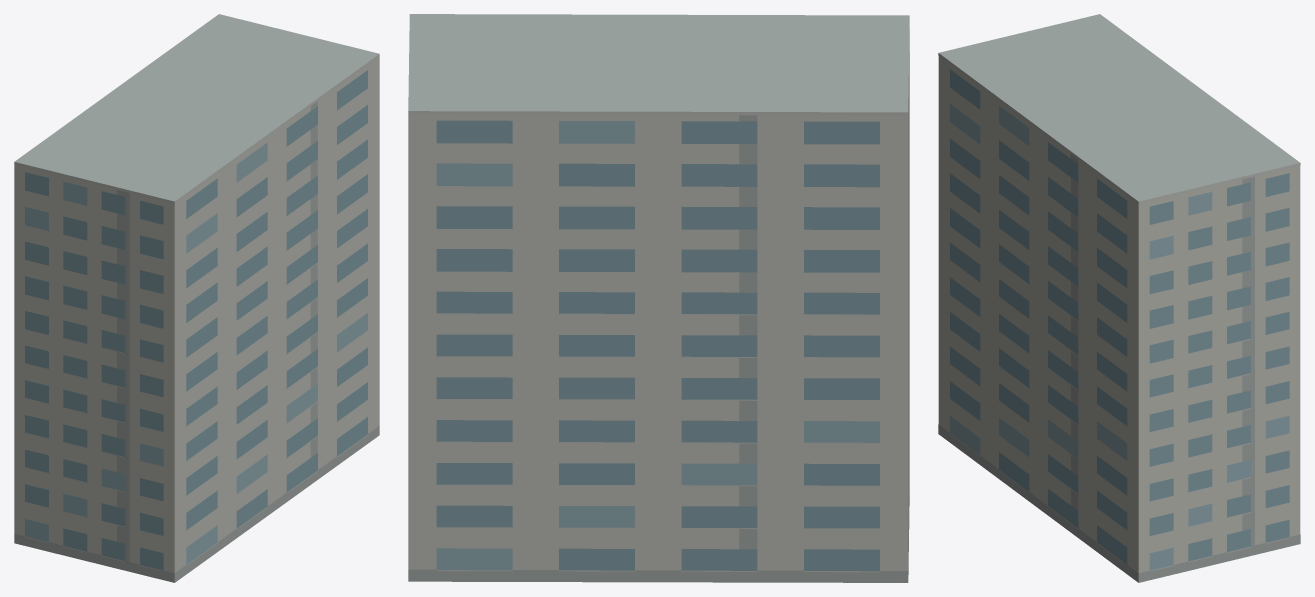
Rendered from residential-58eb2d0b-d972-4fe0-9a7a-ab9929302028.glb.
The picture shows the model from 3 angles, left to right: view 1: azimuth 30°, elevation 25°; view 2: azimuth 150°, elevation 25°; view 3: azimuth 270°, elevation 25°; orthographic projection. The views are drawn at different scales.
Parts seen in each view (by area): view 1: residential-58eb2d0b-d972-4fe0-9a7a-ab9929302028.tmp; view 2: residential-58eb2d0b-d972-4fe0-9a7a-ab9929302028.tmp; view 3: residential-58eb2d0b-d972-4fe0-9a7a-ab9929302028.tmp.
Boxes of the visible parts, x1,y1,x2,y2 form: residential-58eb2d0b-d972-4fe0-9a7a-ab9929302028.tmp: [14, 14, 379, 582]; residential-58eb2d0b-d972-4fe0-9a7a-ab9929302028.tmp: [408, 14, 909, 582]; residential-58eb2d0b-d972-4fe0-9a7a-ab9929302028.tmp: [938, 14, 1300, 582].
Bounding box in the file's own units: 36.96 × 35 × 30.12.
